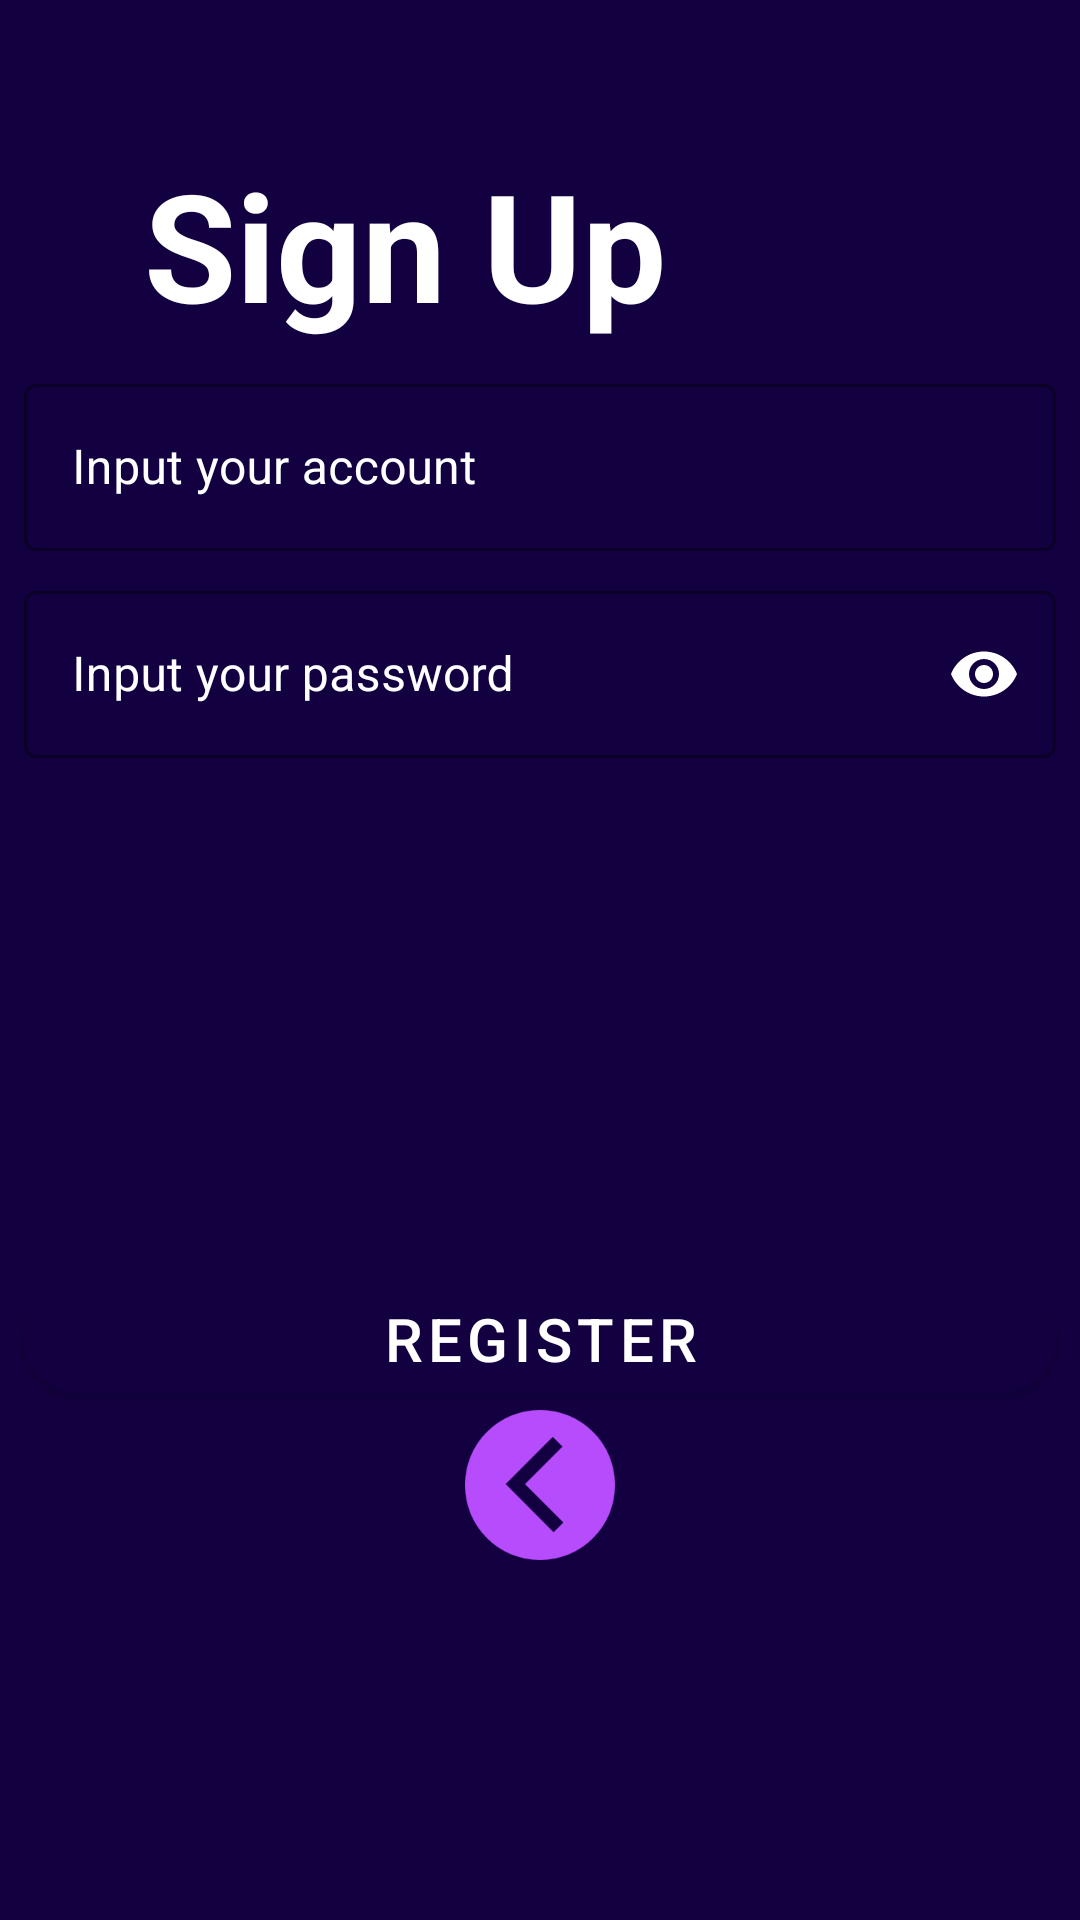

Named icons in this screenshot (1080*1920) and their bounding boxes, (x1, y1, x2, y2):
back left: (465, 1410, 615, 1560)
